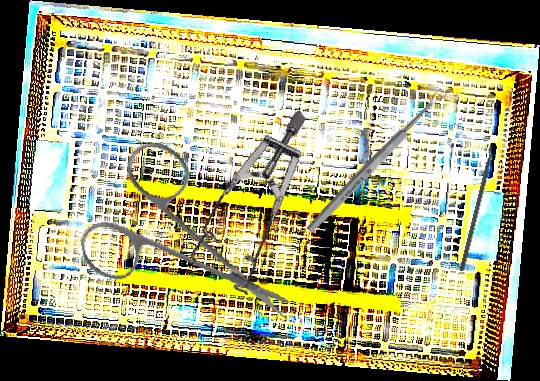Hook Surgical: (459, 136, 499, 272)
Iris Scissors: (63, 120, 292, 356)
Speculum: (148, 108, 368, 314)
Surgical Spoon: (304, 86, 449, 236)
